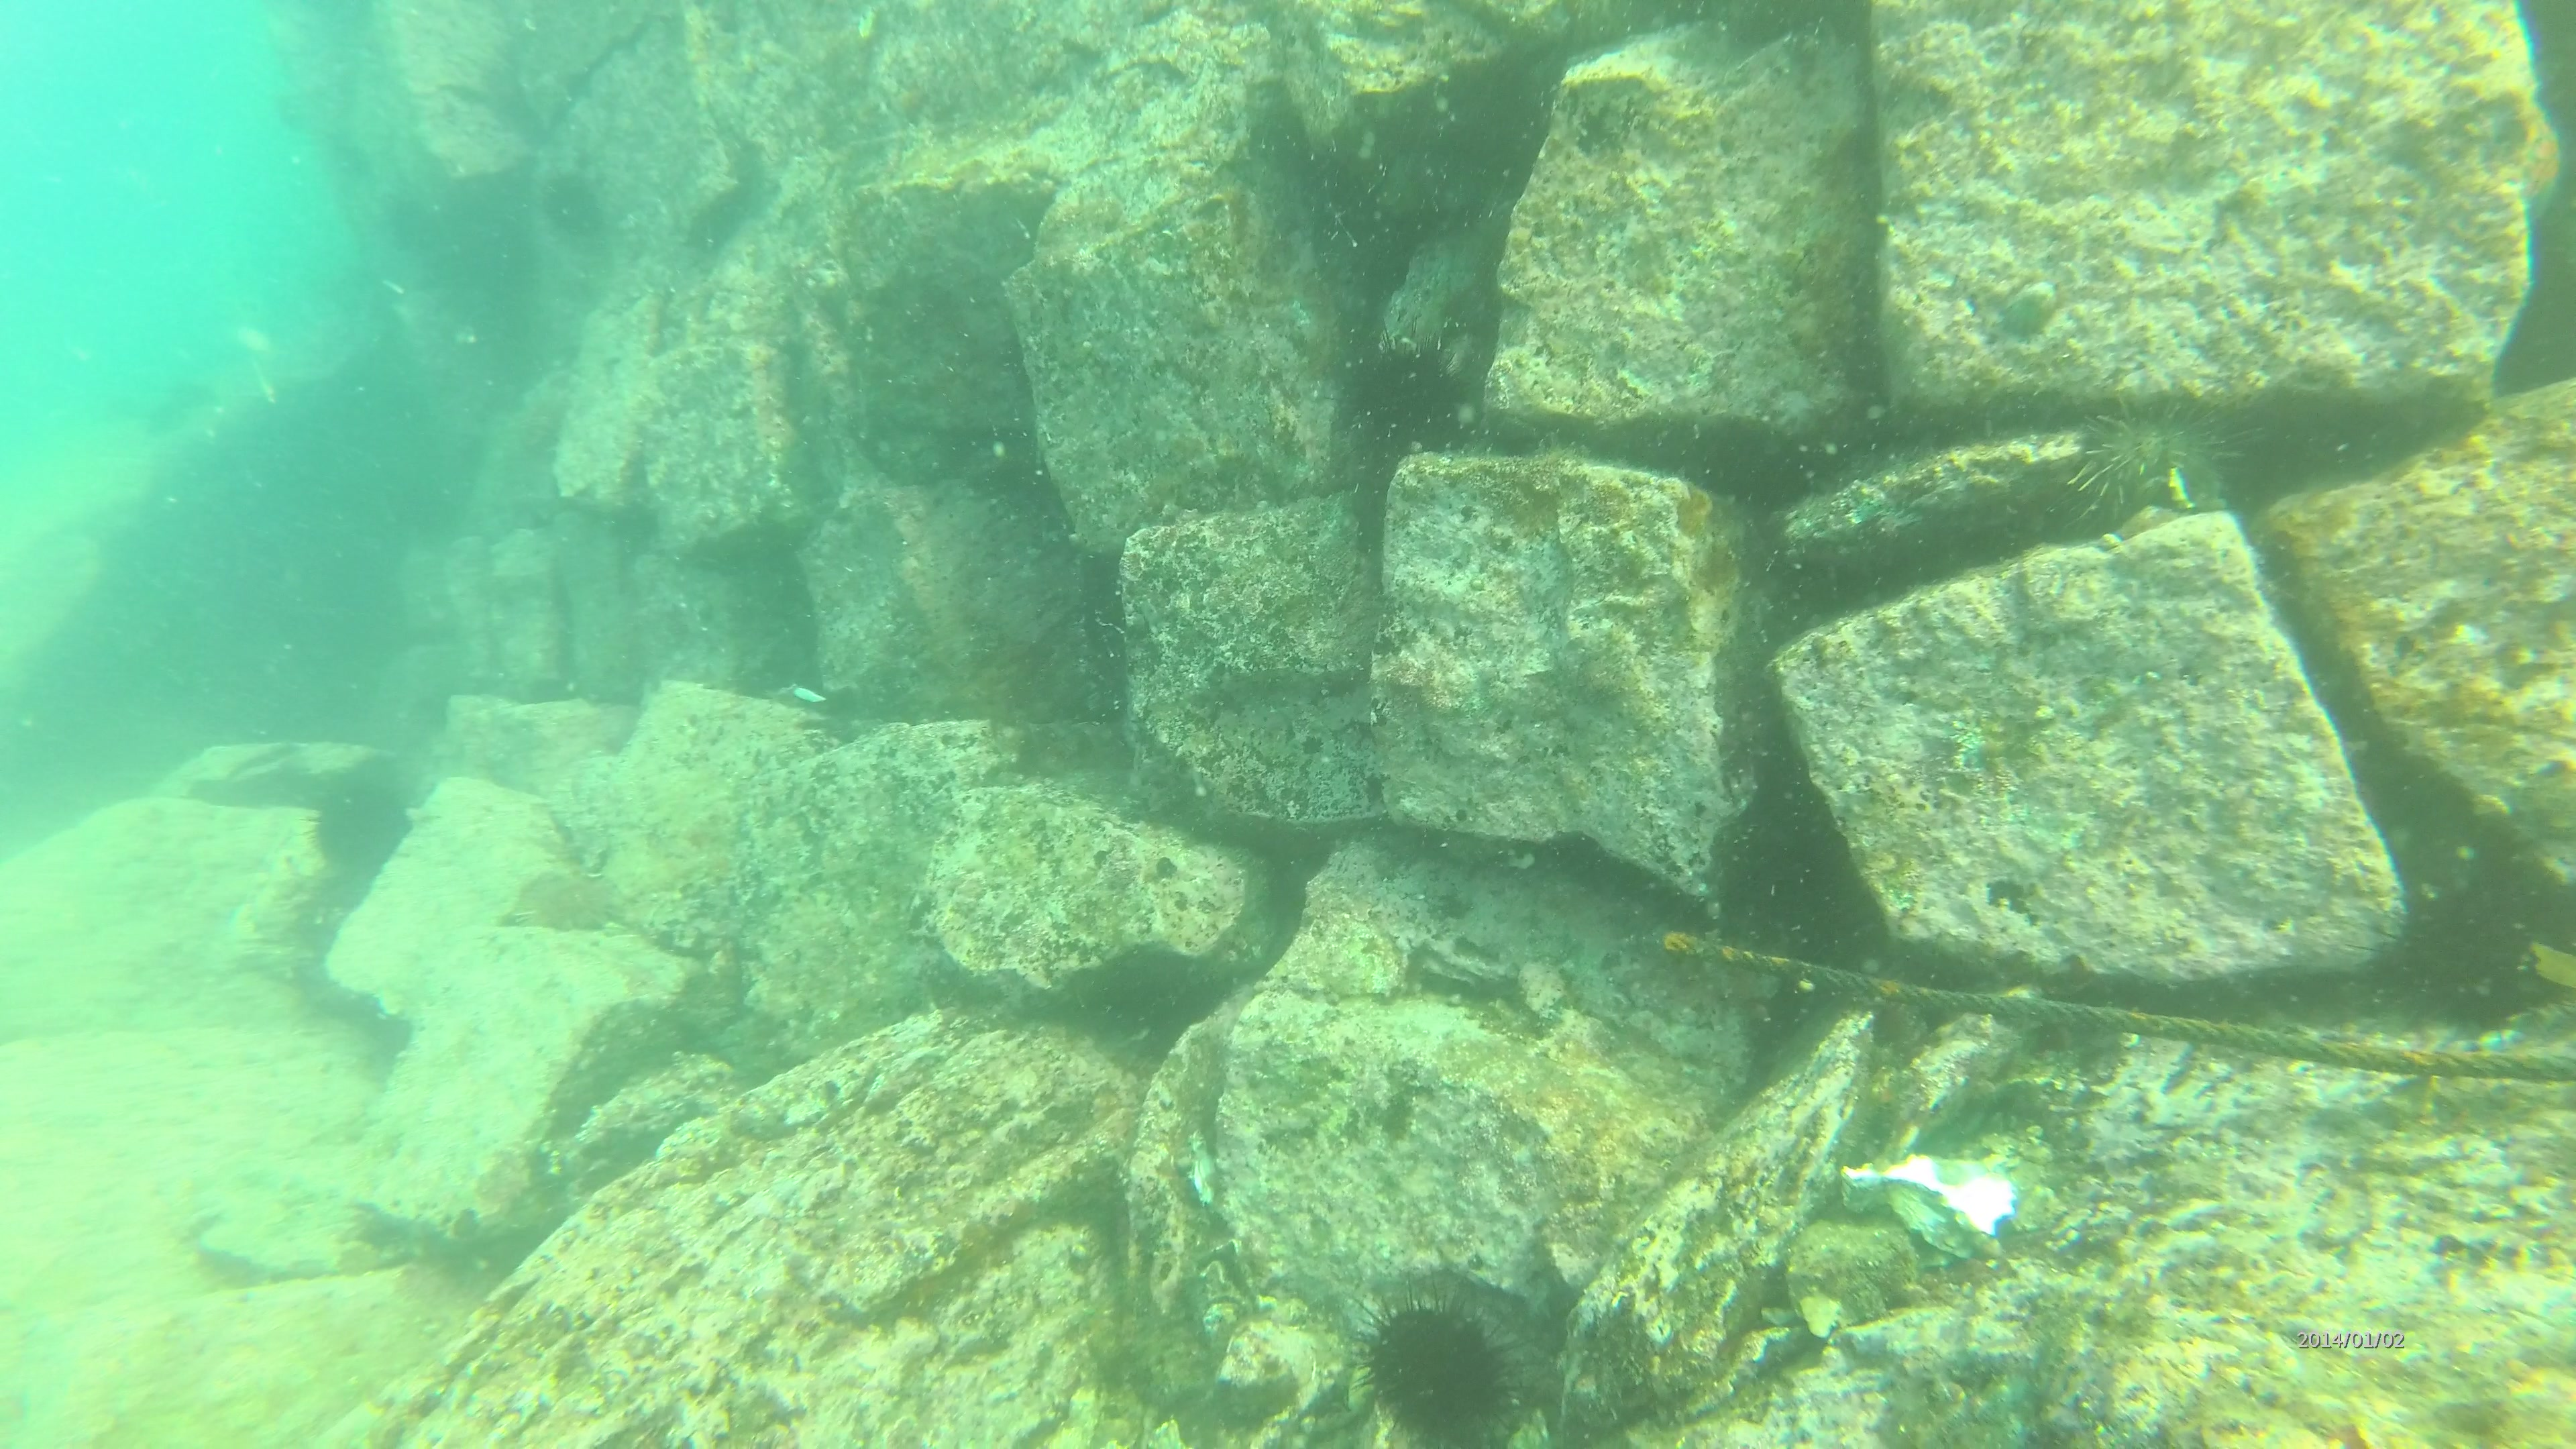echinus: (1352, 1281, 1525, 1449), (2077, 391, 2238, 518), (1355, 333, 1476, 465), (303, 773, 416, 885)
